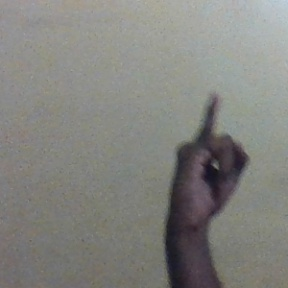I: (169, 89, 253, 226)
